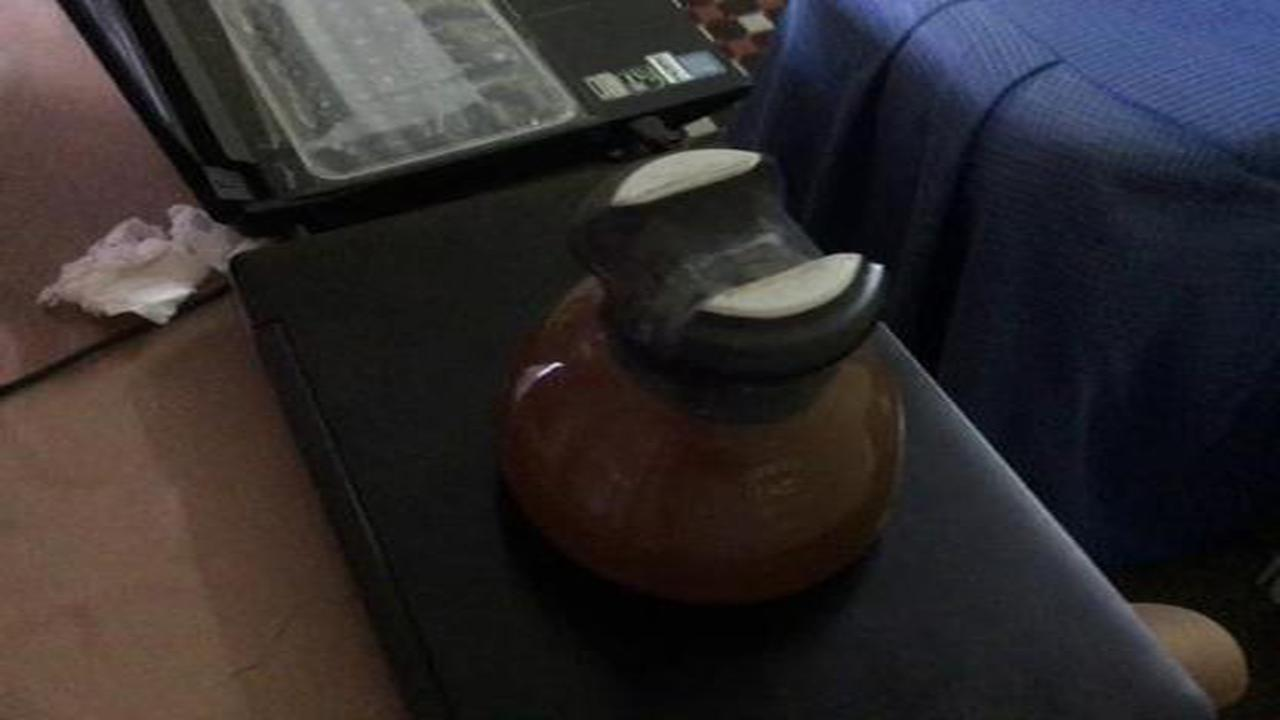insulator_pin: (480, 137, 939, 637)
